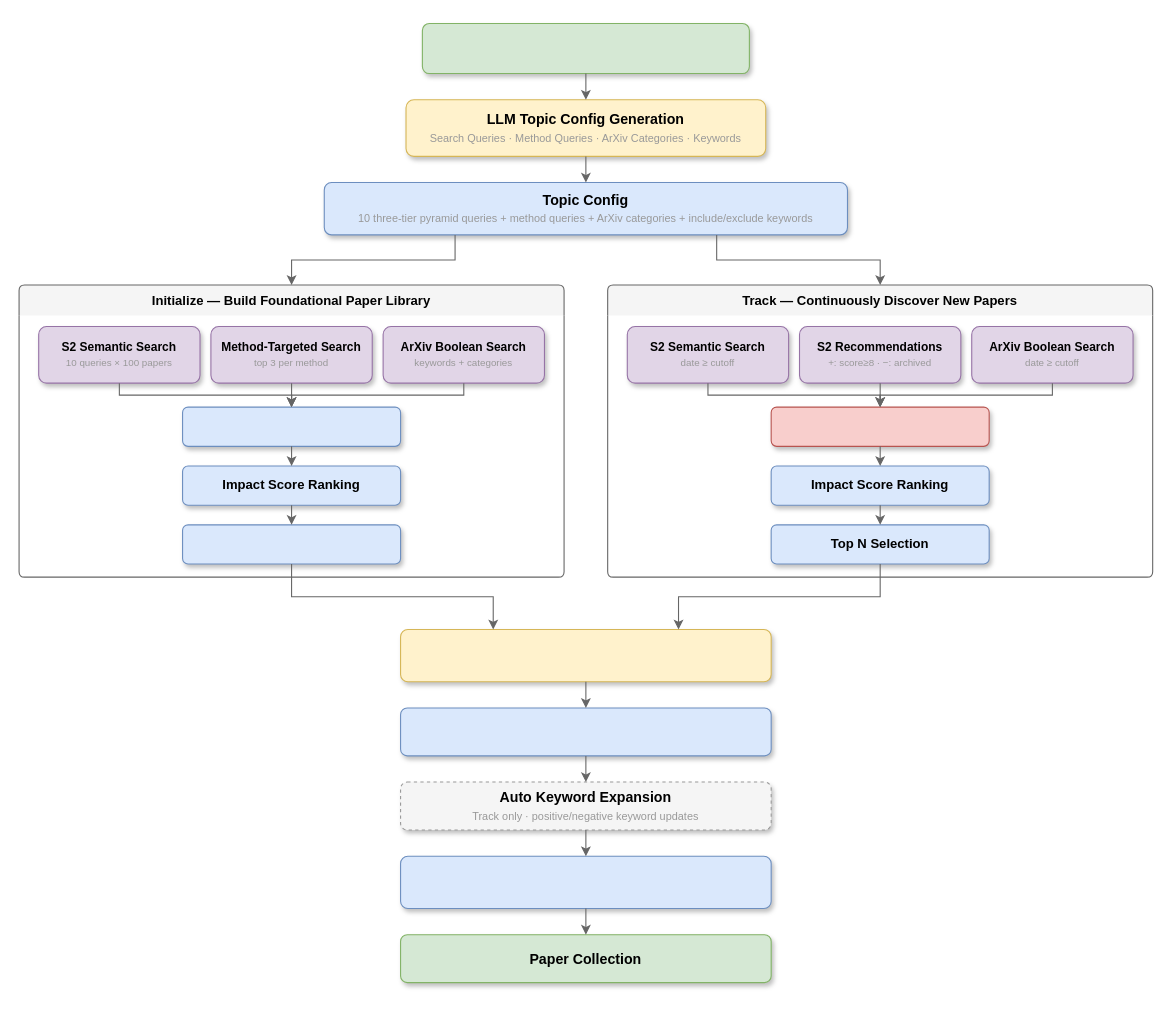
Image size: 1172x1009. Some labels were removed from this diagram. Each missing label, with the centre of its shape:
"Citation Snowball papers with score ≥ 8 → fetch citations → re-score" belongs at [586,733].
"Deduplication" belongs at [292,428].
"Keyword Triage" belongs at [881,428].
"LLM Batch Scoring 5 papers/batch · score (1-10) + reason" belongs at [586,656].
"Prune Low-Score Papers score < threshold → remove" belongs at [586,883].
"Shortlist ~40 Papers" belongs at [292,545].
"User Describes Research Interest" belongs at [586,49].
